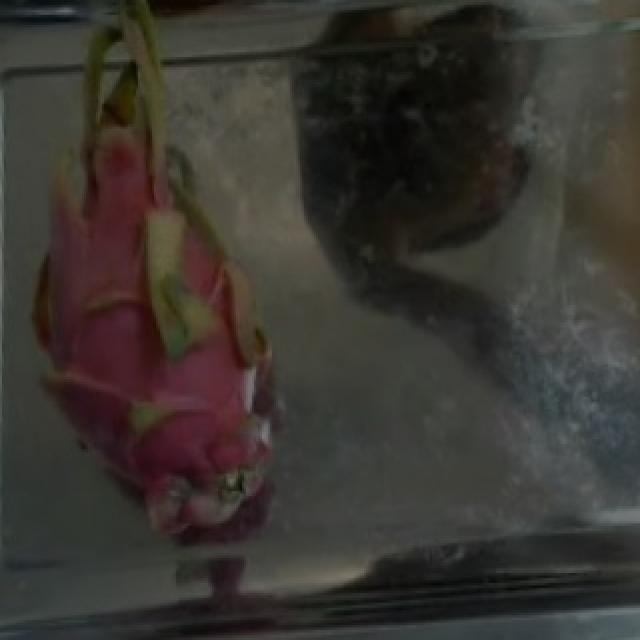fruit: (2, 144, 314, 563)
